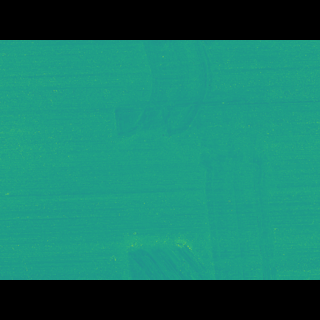Loch: (111, 136, 271, 251), (111, 70, 227, 145)
